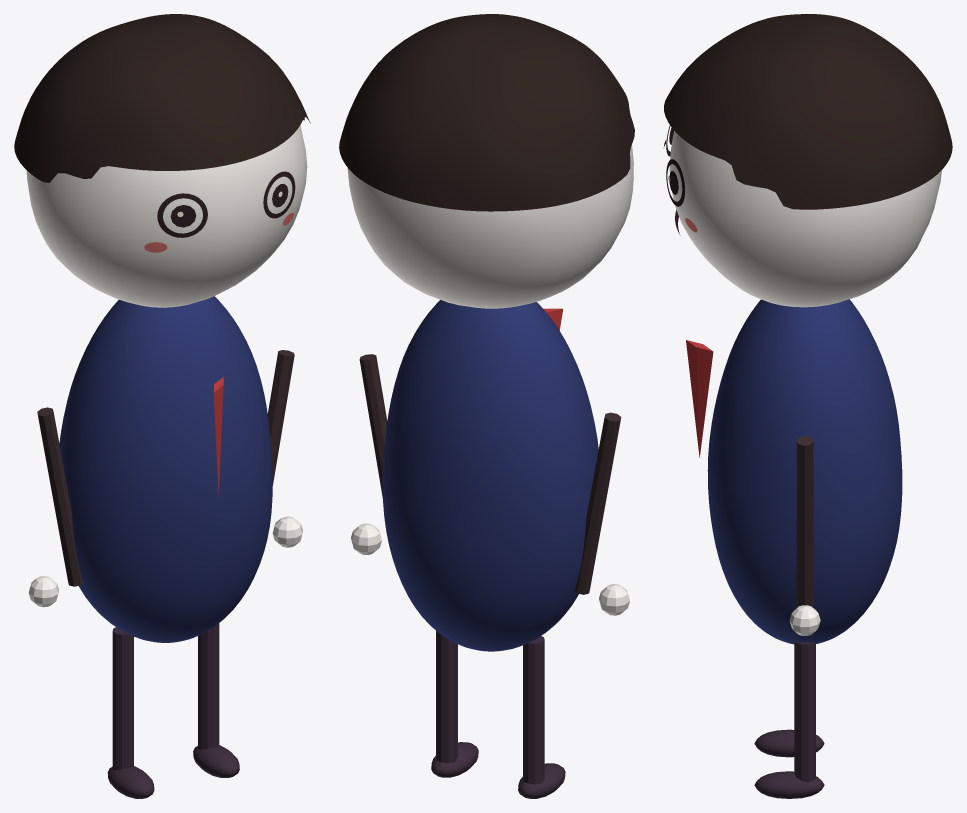
The model's file is impiegato_blu.glb.
3 views of the same model, side by side, from view 1: azimuth 30°, elevation 25°; view 2: azimuth 150°, elevation 25°; view 3: azimuth 270°, elevation 25° (orthographic).
Visible parts, largest first — view 1: corpo, capelli, testa, gamba_L, braccio_L, gamba_R, viso_ink, braccio_R, piede_R, piede_L, mano_R, mano_L (+1 smaller); view 2: corpo, capelli, testa, gamba_L, braccio_L, gamba_R, braccio_R, piede_L, piede_R, mano_L, mano_R; view 3: corpo, capelli, testa, gamba_R, braccio_R, cravatta, piede_R, piede_L, mano_R, viso_ink.
Boxes of the visible parts, <box> form: corpo: <box>59,296,272,642</box>; capelli: <box>14,14,310,182</box>; testa: <box>26,125,307,307</box>; gamba_L: <box>112,627,133,770</box>; braccio_L: <box>37,407,83,586</box>; gamba_R: <box>198,623,219,749</box>; viso_ink: <box>157,171,295,237</box>; braccio_R: <box>267,350,294,485</box>; piede_R: <box>193,745,239,777</box>; piede_L: <box>107,766,154,798</box>; mano_R: <box>272,516,303,547</box>; mano_L: <box>28,576,59,607</box>; corpo: <box>382,300,598,651</box>; capelli: <box>339,14,634,211</box>; testa: <box>347,145,633,308</box>; gamba_L: <box>523,636,544,798</box>; braccio_L: <box>574,412,621,594</box>; gamba_R: <box>436,631,457,777</box>; braccio_R: <box>359,354,387,498</box>; piede_L: <box>518,763,565,798</box>; piede_R: <box>431,742,478,777</box>; mano_L: <box>599,584,629,615</box>; mano_R: <box>351,523,381,554</box>; corpo: <box>707,299,902,644</box>; capelli: <box>664,14,952,209</box>; testa: <box>669,131,941,307</box>; gamba_R: <box>794,642,815,796</box>; braccio_R: <box>796,436,813,606</box>; cravatta: <box>686,340,713,457</box>; piede_R: <box>754,771,824,798</box>; piede_L: <box>754,729,824,757</box>; mano_R: <box>789,605,820,635</box>; viso_ink: <box>663,125,684,235</box>.
Size of what is drawn, in the model's own units: 0.7961 by 2.11 by 0.7404.
